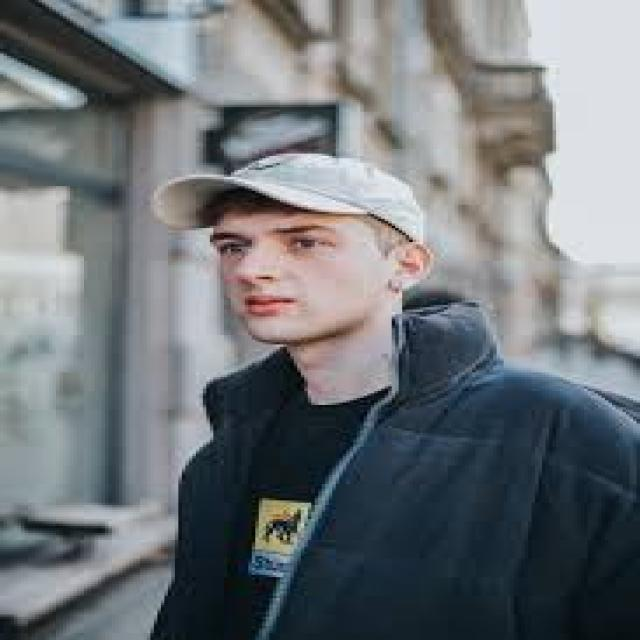cap: (143, 144, 444, 347)
